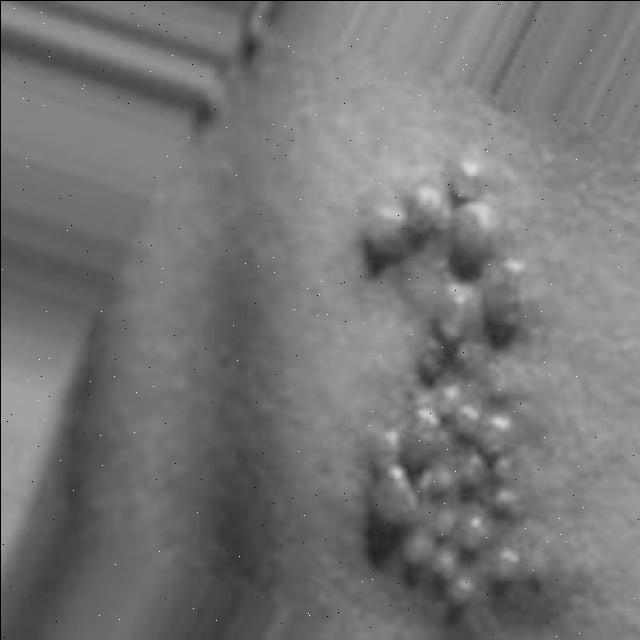Shingles: (357, 156, 544, 614)
